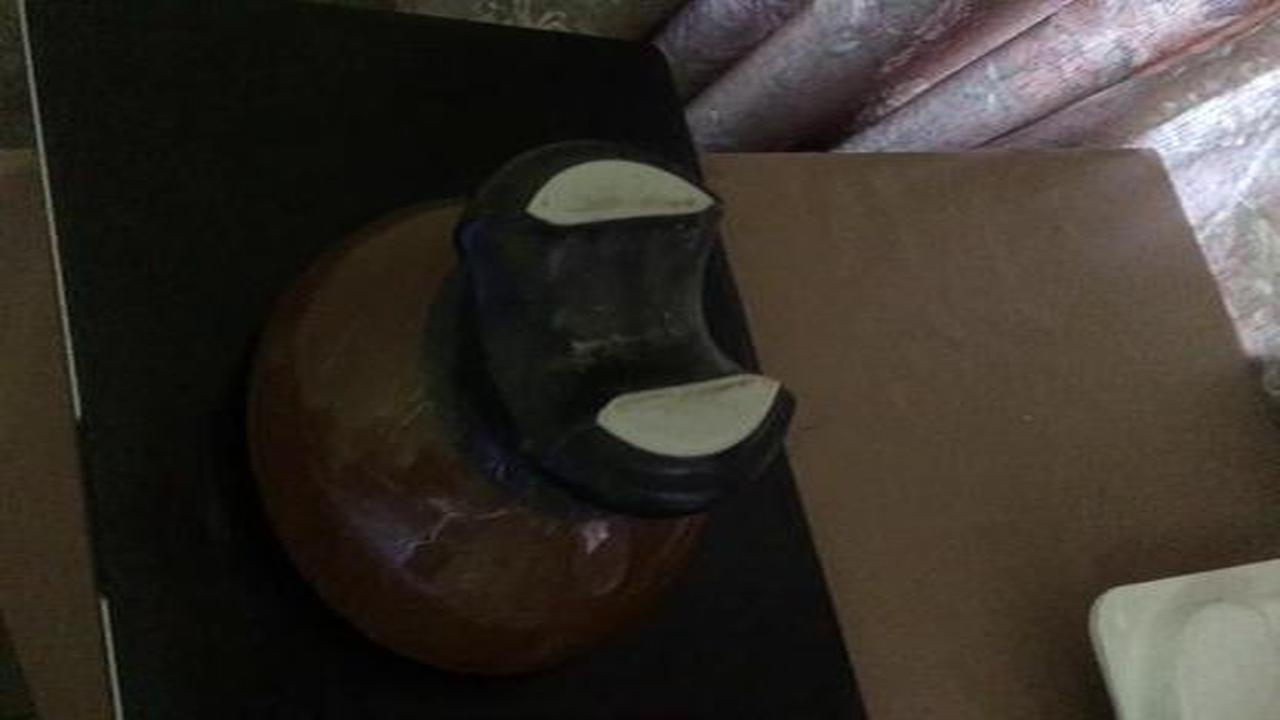insulator_pin: (219, 114, 822, 705)
